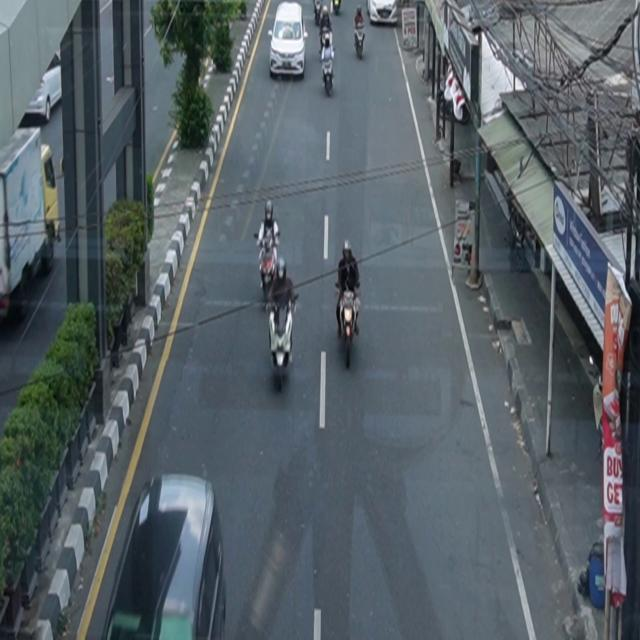car: (268, 2, 309, 80), (367, 1, 398, 26)
truck: (1, 126, 61, 323)
